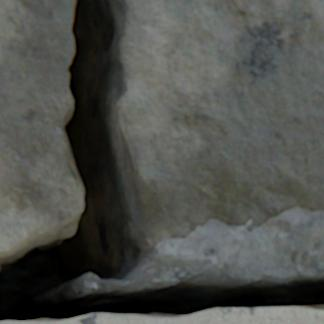brick: (55, 307, 323, 323), (5, 322, 44, 323)
broken_brick: (118, 0, 323, 251), (0, 0, 84, 254)
crack: (0, 0, 323, 323)
